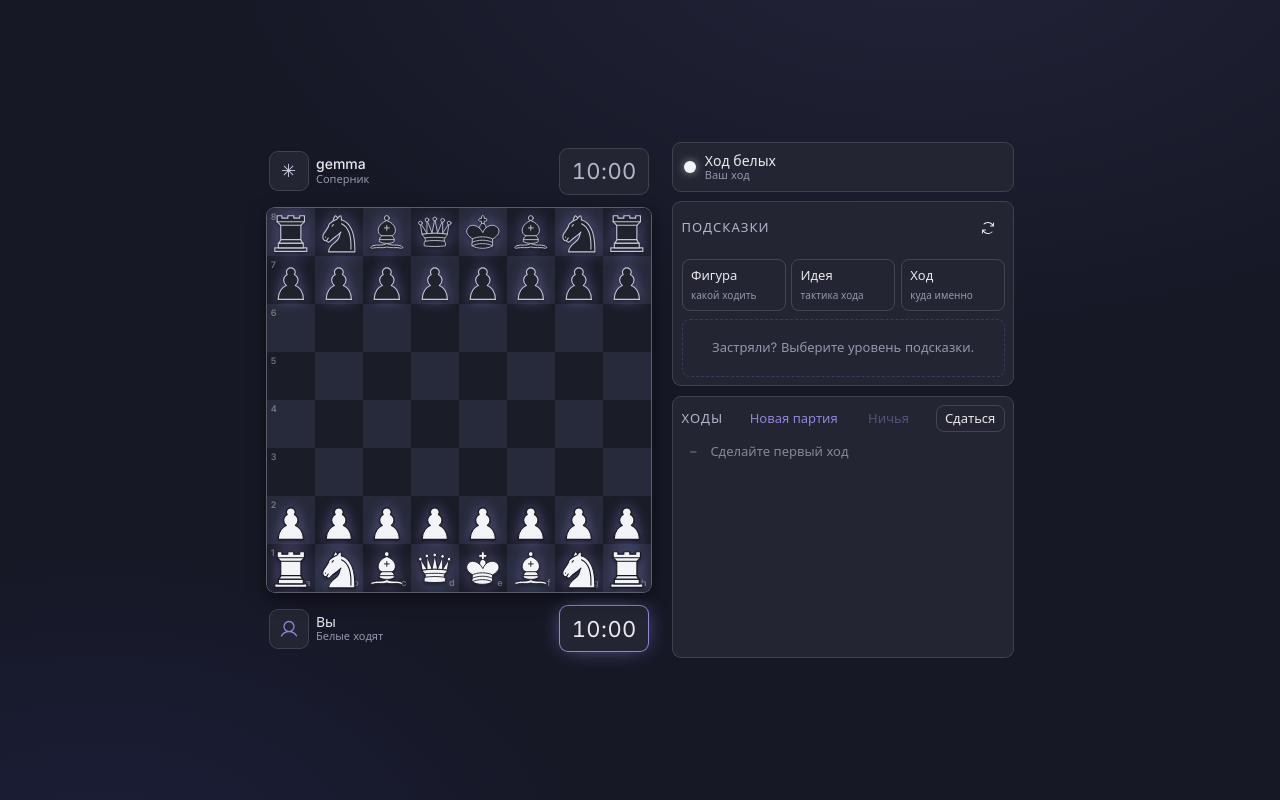
resigning shows the resignation status and records the game
Click the button "Сдаться" at (970,418), box [936,405,1005,432]
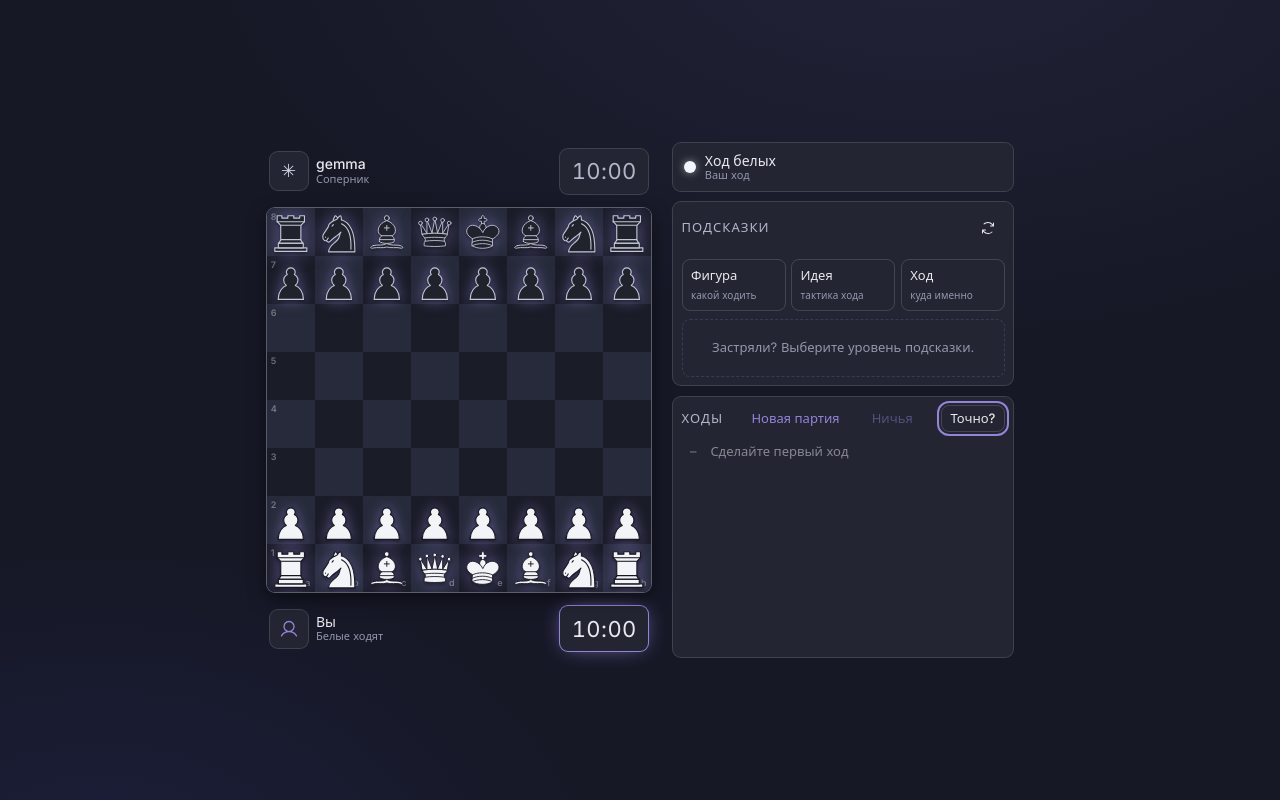
Click the button "Точно?" at (973,418), box [941,405,1005,432]
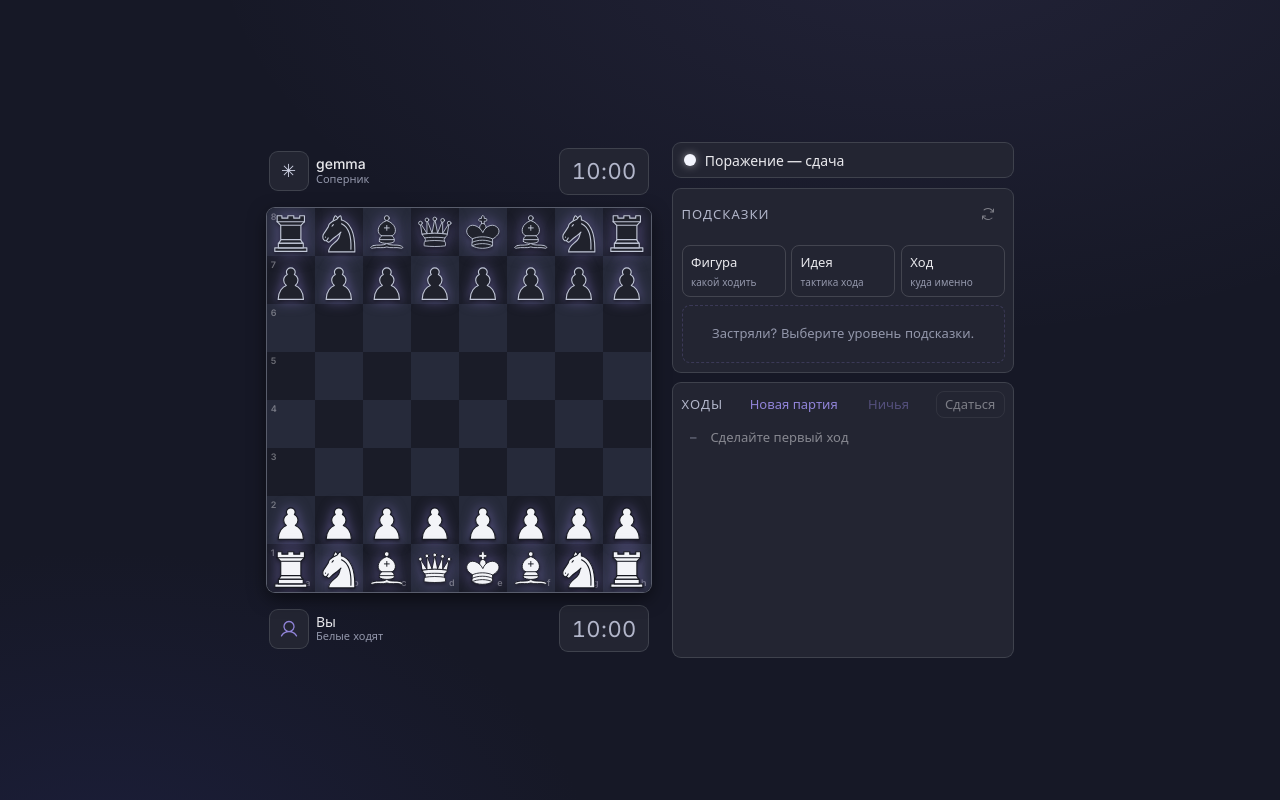
Expected: the text "gemma" is shown, [316,156,369,173]
Now the text "Поражение — сдача" is shown, box [705,152,844,169]
